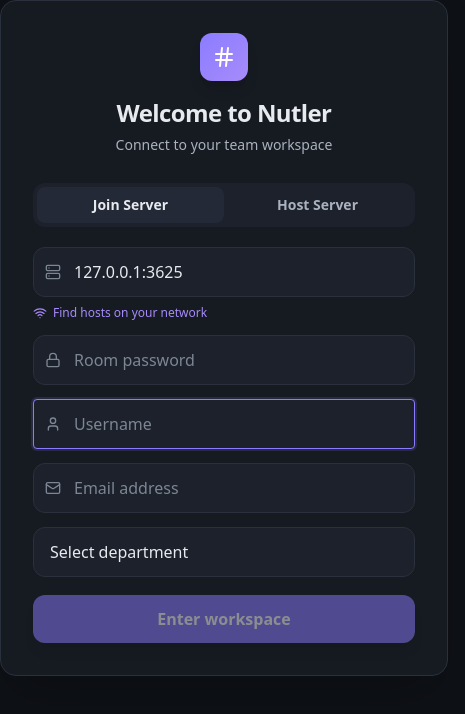
Test: LoginView › shows a distinct error when discovery itself fails
Step 1. Click the button "Find hosts on your network" → click(120, 313), box [33,305,207,321]
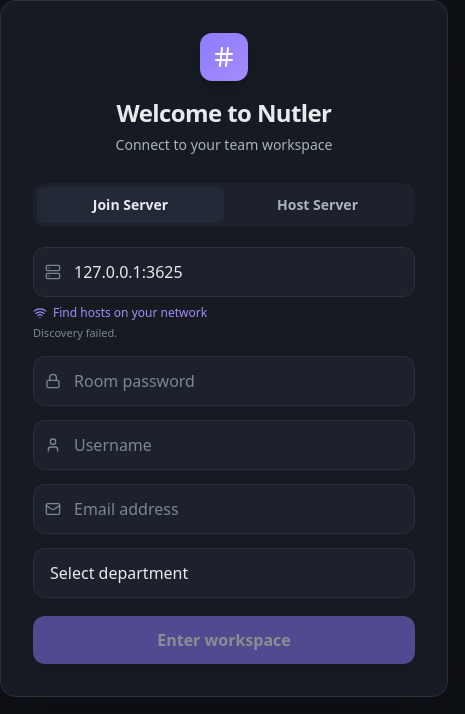
Expected: the text "Discovery failed." is shown, [33,325,117,340]
